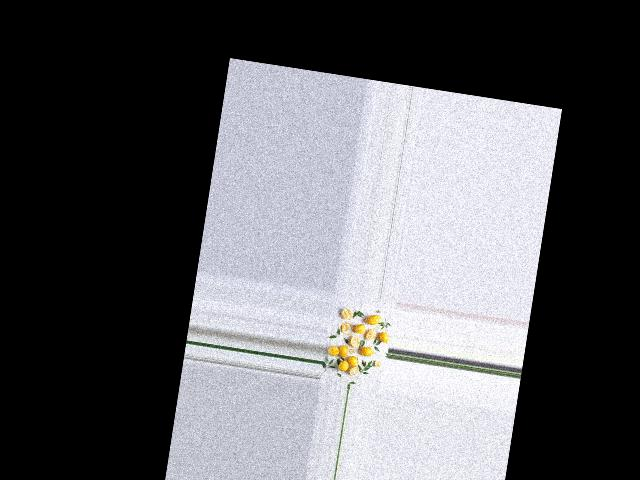lemon: (327, 342, 341, 358)
